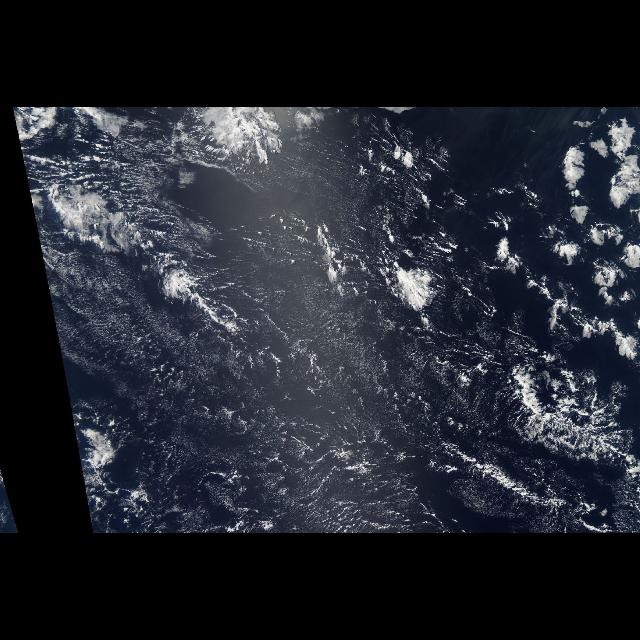Fish: (480, 357, 630, 518)
Flower: (487, 112, 639, 374)
Sugar: (39, 232, 463, 530)
